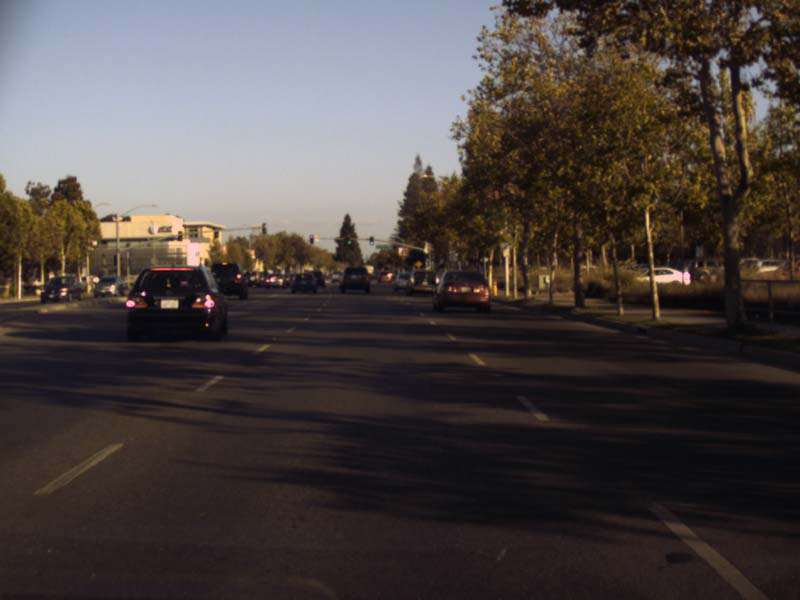Green: (345, 234, 351, 245), (369, 235, 374, 244)
Red: (309, 233, 313, 244)
